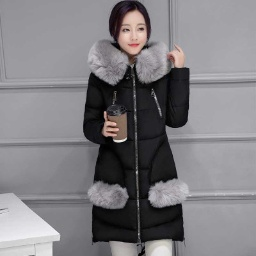face: (105, 1, 154, 57)
